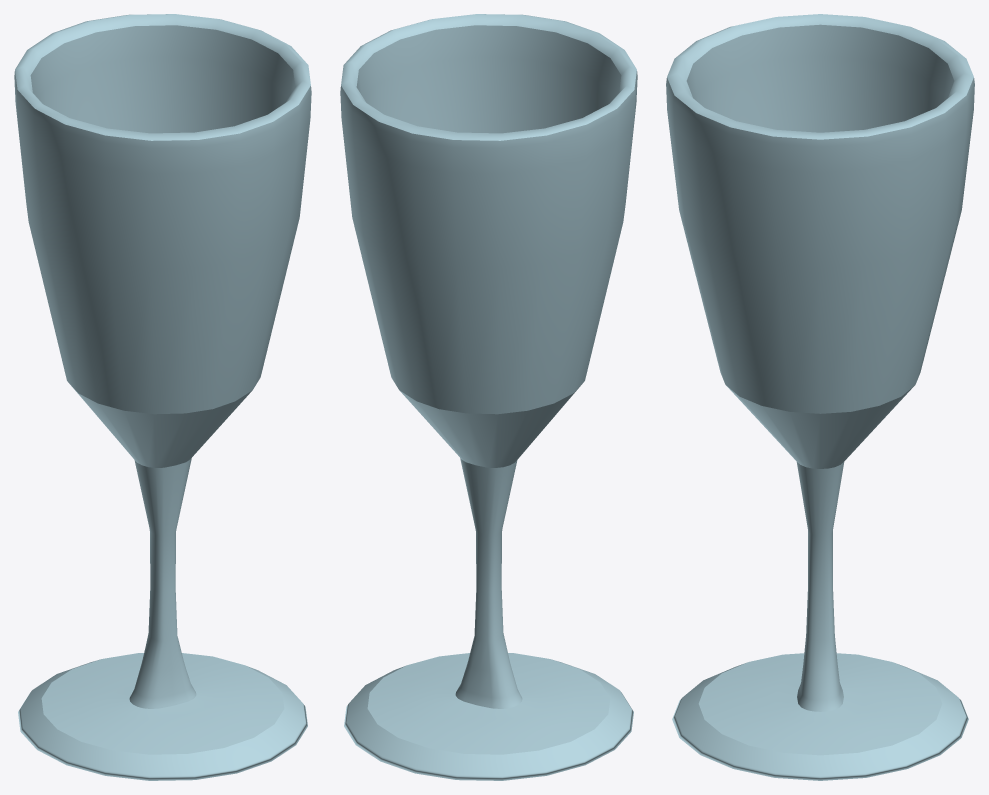
File: taca.fbx
3 views of the same model, side by side, from view 1: azimuth 30°, elevation 25°; view 2: azimuth 150°, elevation 25°; view 3: azimuth 270°, elevation 25° (orthographic).
Parts seen in each view (by area): view 1: taca; view 2: taca; view 3: taca.
Boxes of the visible parts, left/top/right/bottom form: taca: left=14, top=14, right=311, bottom=780; taca: left=340, top=14, right=637, bottom=780; taca: left=666, top=14, right=974, bottom=780.
Bounding box in the file's own units: 169 × 405 × 175.
